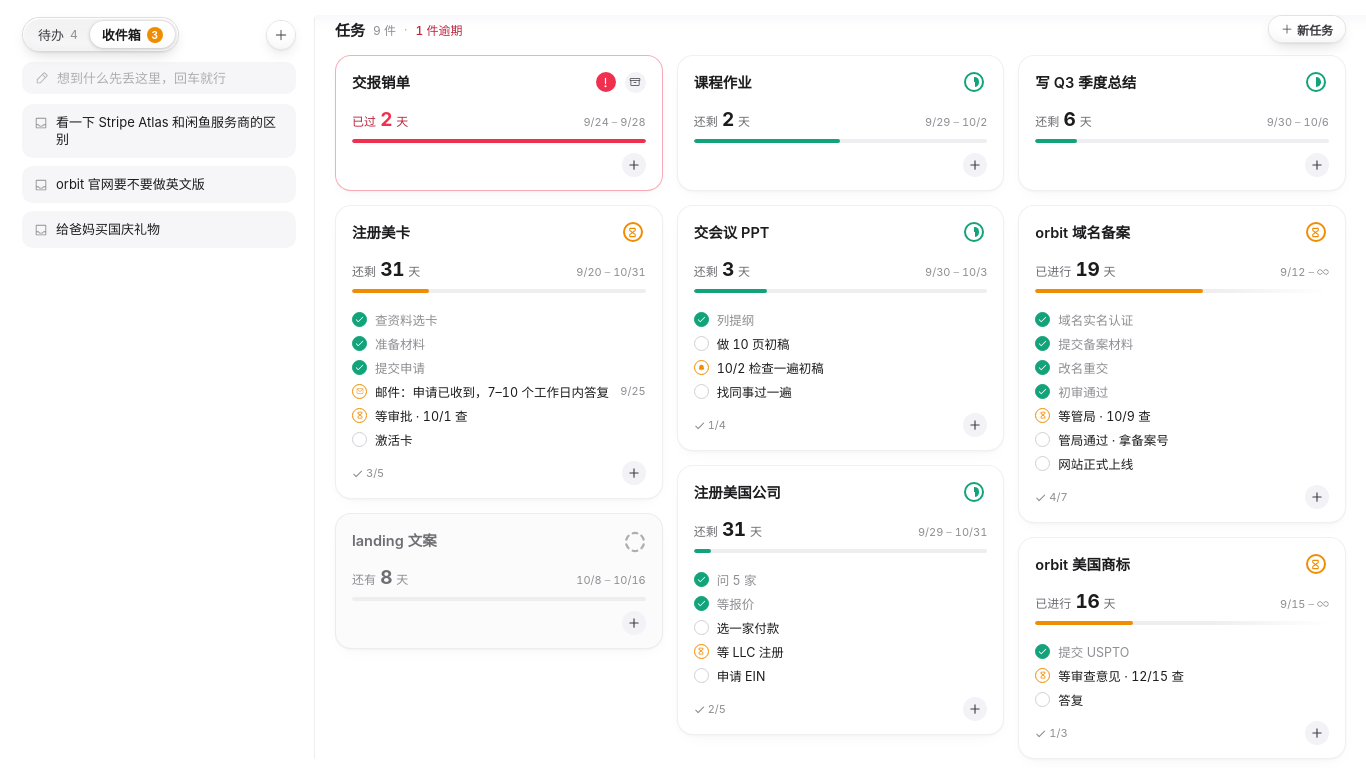
TodoPanel › inbox input ignores IME Enter and saves to the top
Step 1. Type "申请海外学校（UCL / 港大）" into the field named "收件箱输入" → (170, 78), box [57,63,283,93]
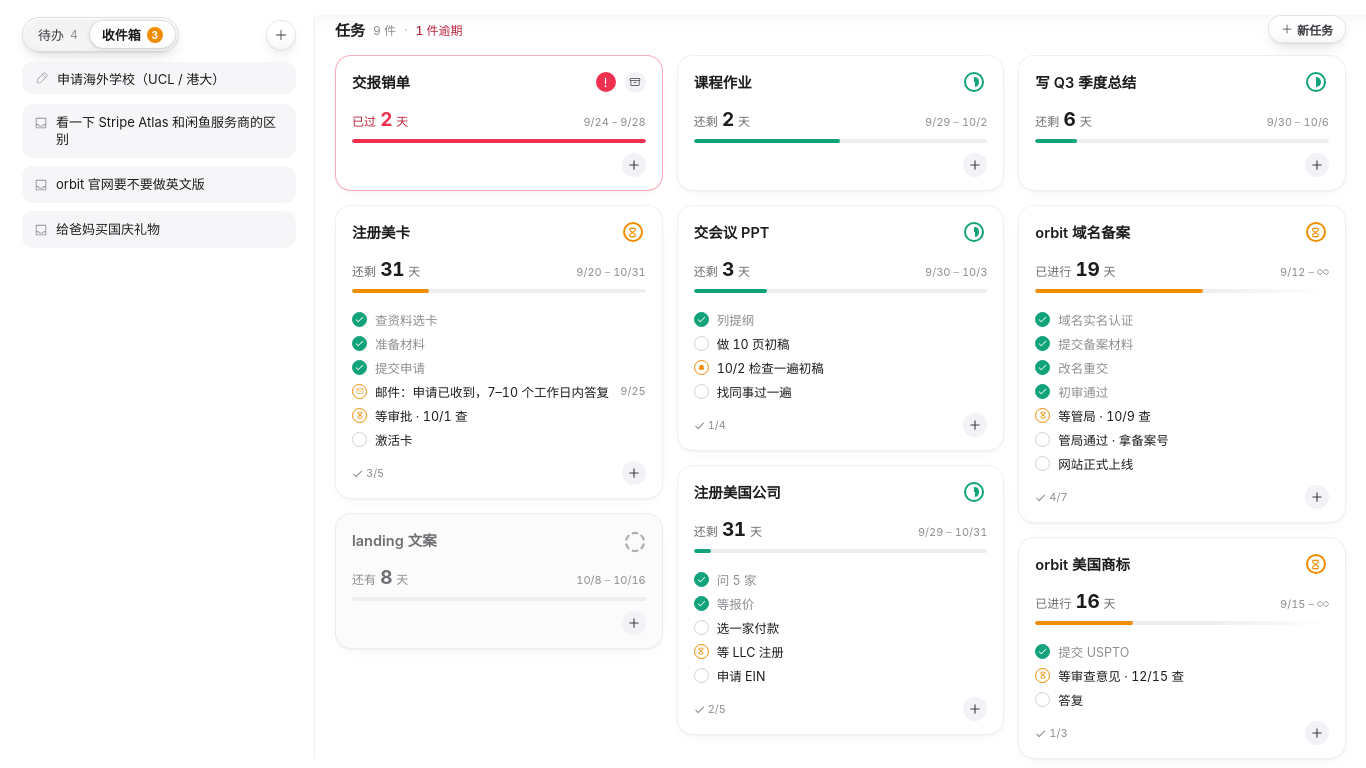
Step 2. Press Enter in the field named "收件箱输入", box [57,63,283,93]
Step 3. Press Enter in the field named "收件箱输入", box [57,63,283,93]
Step 4. Press Enter in the field named "收件箱输入", box [57,63,283,93]
Step 5. Press Enter in the field named "收件箱输入", box [57,63,283,93]
Step 6. Press Enter in the field named "收件箱输入", box [57,63,283,93]
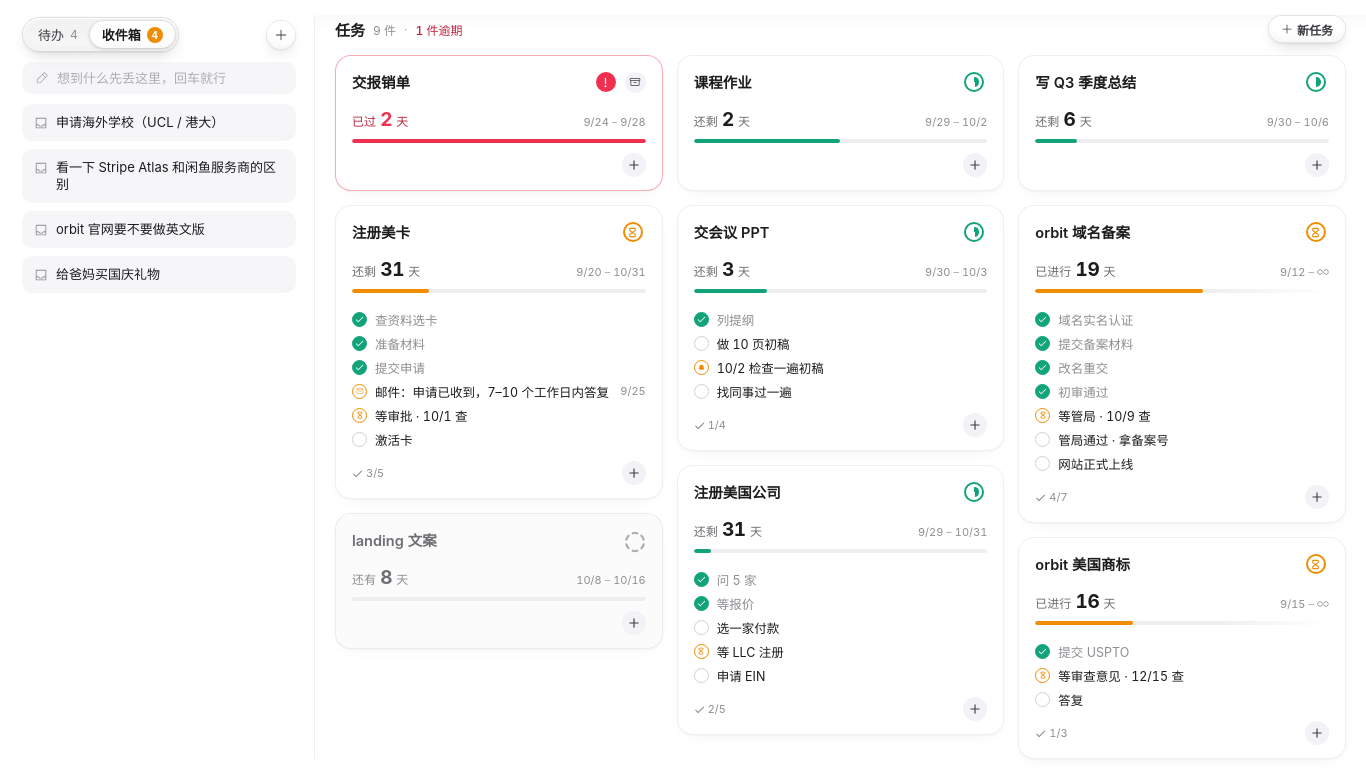
Result: the element showing "申请海外学校（UCL / 港大）" is shown at [22,104,296,141]
Result: the text with test id "inbox-badge" reads "4" at [152,28,158,40]
